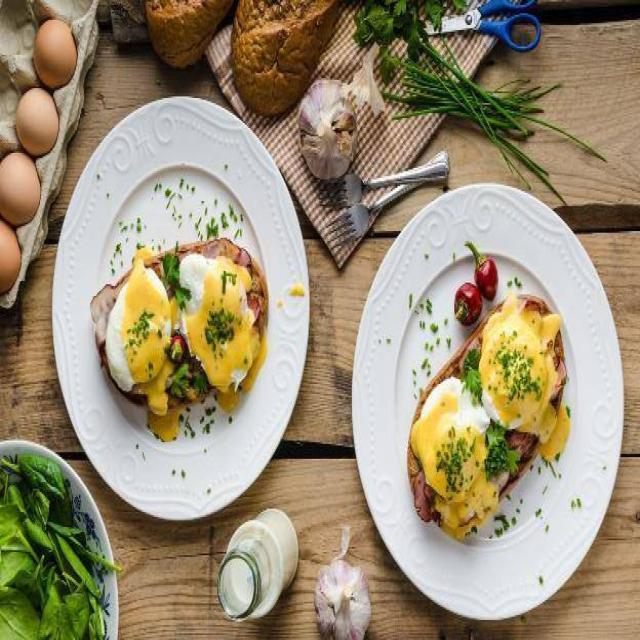huevos: (29, 12, 82, 98)
